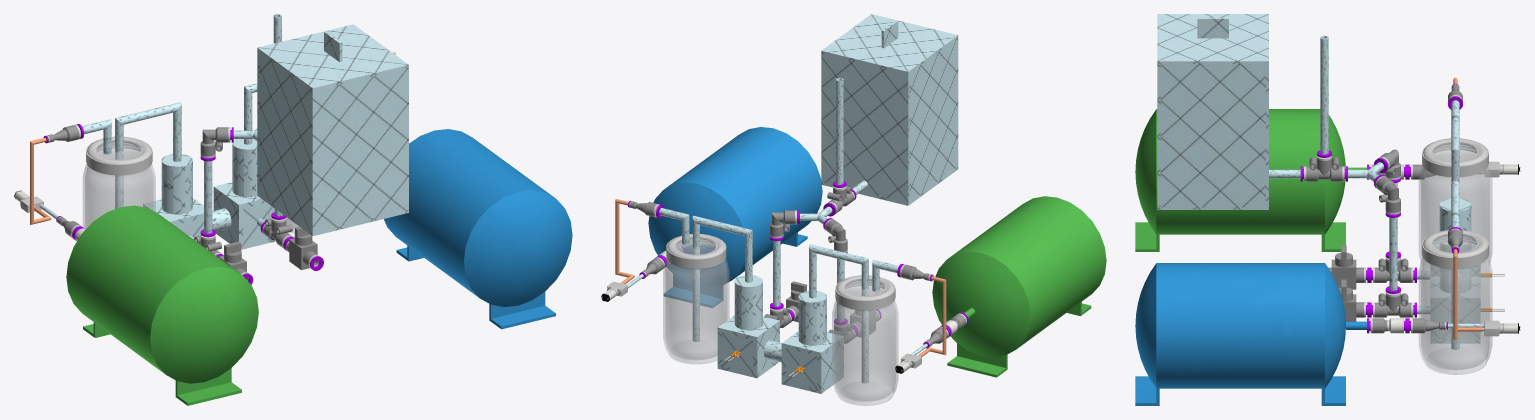
File: Desain Water Splitting Naufal V3.glb
3 views of the same model, side by side, from view 1: azimuth 30°, elevation 25°; view 2: azimuth 150°, elevation 25°; view 3: azimuth 270°, elevation 25° (orthographic). The views are drawn at different scales.
Parts seen in each view (by area): view 1: Geom3D (×6), Geom3D_ (×6), Geom3D_Glass Jar 20140316LJW; view 2: Geom3D (×9), Geom3D_ (×5), Geom3D_Glass Jar 20140316LJW (×2); view 3: Geom3D (×10), Geom3D_ (×6), Geom3D_Glass Jar 20140316LJW (×2).
Boxes of the visible parts, x1,y1,x2,y2 form: Geom3D (×6): [30, 14, 572, 405]; Geom3D_ (×6): [243, 24, 408, 270]; Geom3D_Glass Jar 20140316LJW: [83, 142, 155, 228]; Geom3D (×9): [615, 53, 1106, 383]; Geom3D_ (×5): [722, 14, 958, 389]; Geom3D_Glass Jar 20140316LJW (×2): [663, 239, 898, 405]; Geom3D (×10): [1135, 35, 1503, 405]; Geom3D_ (×6): [1157, 14, 1480, 338]; Geom3D_Glass Jar 20140316LJW (×2): [1419, 145, 1492, 374].
Bounding box in the file's own units: 0.466 × 0.3117 × 0.3658.
Materials: 18 (6 with a texture image).
